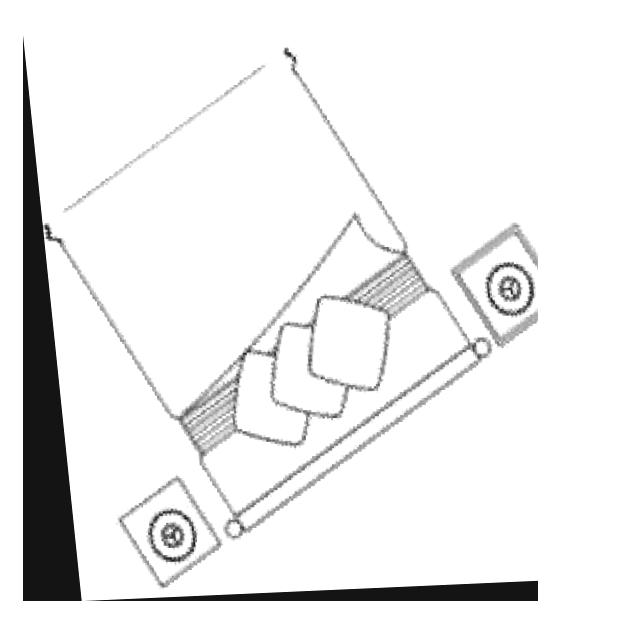bed: (23, 34, 538, 601)
